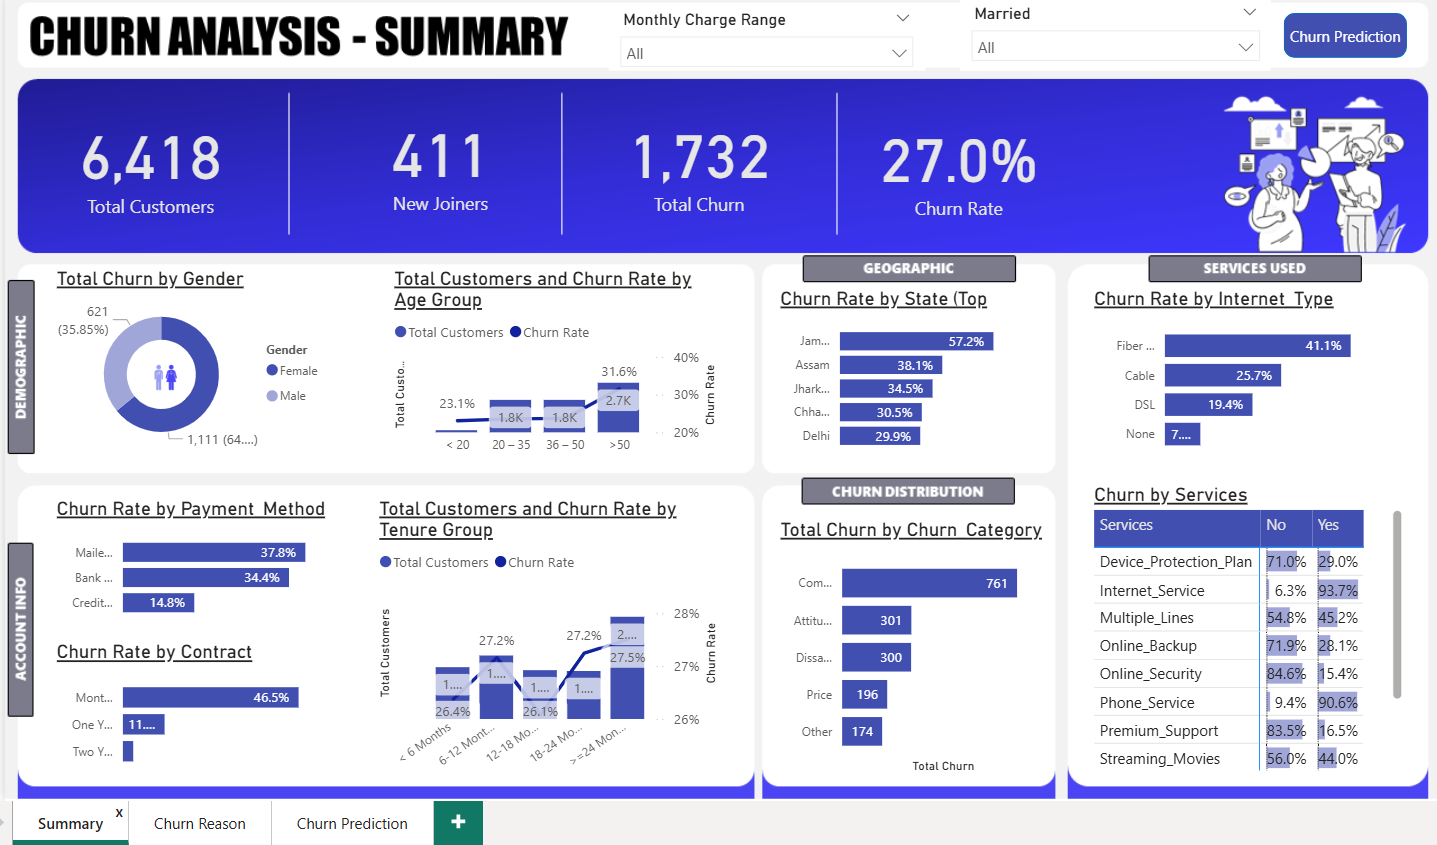

The page's visual inventory and layout, read from the dashboard file:
{"tool":"powerbi","page":{"name":"Summary","canvas":[1280,720],"ordinal":0},"visuals":[{"type":"card","fields":{"Values":["tbl_measures.Total Customers"]},"box":[26.1,82.3,208.6,137.2],"z":0},{"type":"card","fields":{"Values":["tbl_measures.New Joiners"]},"box":[273.1,78.2,230.5,141.3],"z":1000},{"type":"card","fields":{"Values":["tbl_measures.Total Churn"]},"box":[503.6,79.6,230.5,141.3],"z":2000},{"type":"card","fields":{"Values":["tbl_measures.Churn Rate"]},"box":[745.1,82.3,209.9,141.3],"z":3000},{"type":"donutChart","fields":{"Category":["prod_Churn.Gender"],"Y":["tbl_measures.Total Churn"]},"box":[41.2,244.3,252.5,172.9],"z":4000},{"type":"lineStackedColumnComboChart","fields":{"Category":["mapping_AgeGrp.Age Group"],"Y":["tbl_measures.Total Customers"],"Y2":["tbl_measures.Churn Rate"]},"box":[341.7,244.3,297.8,175.6],"z":5000},{"type":"clusteredBarChart","fields":{"Category":["prod_Churn.Payment_Method"],"Y":["tbl_measures.Churn Rate"]},"box":[41.2,448.7,266.2,118],"z":6000},{"type":"clusteredBarChart","fields":{"Category":["prod_Churn.Contract"],"Y":["tbl_measures.Churn Rate"]},"box":[41.2,576.3,266.2,123.5],"z":7000},{"type":"lineStackedColumnComboChart","fields":{"Category":["mapping_TenureGrp.Tenure Group"],"Y":["tbl_measures.Total Customers"],"Y2":["tbl_measures.Churn Rate"]},"box":[328,448.7,311.5,251.1],"z":8000},{"type":"clusteredBarChart","title":"Churn Rate by State (Top","fields":{"Category":["prod_Churn.State"],"Y":["tbl_measures.Churn Rate"]},"box":[686.1,262.1,233.3,155.1],"z":9000},{"type":"clusteredBarChart","fields":{"Category":["prod_Churn.Churn_Category"],"Y":["tbl_measures.Total Churn"]},"box":[686.1,467.9,245.6,231.9],"z":10000},{"type":"clusteredBarChart","fields":{"Y":["tbl_measures.Churn Rate"],"Category":["prod_Churn.Internet_Type"]},"box":[964.7,262.1,284,157.8],"z":11000},{"type":"pivotTable","title":"Churn by Services","fields":{"Rows":["prod_Services.Services"],"Columns":["prod_Services.Status"],"Values":["Sum(prod_Services.Churn Status)"]},"box":[964.7,436.4,284,260.7],"z":12000},{"type":"slicer","fields":{"Values":["prod_Churn.Monthly Charge Status"]},"box":[537.9,9.6,281.3,59],"z":13000},{"type":"slicer","fields":{"Values":["prod_Churn.Married"]},"box":[850.8,4.1,277.2,64.5],"z":14000},{"type":"image","box":[119.4,322.5,48,38.4],"z":15000},{"type":"shape","box":[1138.9,17.8,109.8,39.8],"z":16000}]}

Visuals, with their boxes on the page's 1280x720 design canvas (x1, y1, x2, y2). These are canvas units, not pixel positions in the 1437x845 screenshot, which may show the page scaled, cropped or inside an application window:
card - tbl_measures.Total Customers: [26, 82, 235, 220]
card - tbl_measures.New Joiners: [273, 78, 504, 220]
card - tbl_measures.Total Churn: [504, 80, 734, 221]
card - tbl_measures.Churn Rate: [745, 82, 955, 224]
donutChart - prod_Churn.Gender x tbl_measures.Total Churn: [41, 244, 294, 417]
lineStackedColumnComboChart - mapping_AgeGrp.Age Group x tbl_measures.Total Customers: [342, 244, 640, 420]
clusteredBarChart - prod_Churn.Payment_Method x tbl_measures.Churn Rate: [41, 449, 307, 567]
clusteredBarChart - prod_Churn.Contract x tbl_measures.Churn Rate: [41, 576, 307, 700]
lineStackedColumnComboChart - mapping_TenureGrp.Tenure Group x tbl_measures.Total Customers: [328, 449, 640, 700]
"Churn Rate by State (Top" clusteredBarChart: [686, 262, 919, 417]
clusteredBarChart - prod_Churn.Churn_Category x tbl_measures.Total Churn: [686, 468, 932, 700]
clusteredBarChart - tbl_measures.Churn Rate x prod_Churn.Internet_Type: [965, 262, 1249, 420]
"Churn by Services" pivotTable: [965, 436, 1249, 697]
slicer - prod_Churn.Monthly Charge Status: [538, 10, 819, 69]
slicer - prod_Churn.Married: [851, 4, 1128, 69]
image: [119, 322, 167, 361]
shape: [1139, 18, 1249, 58]
